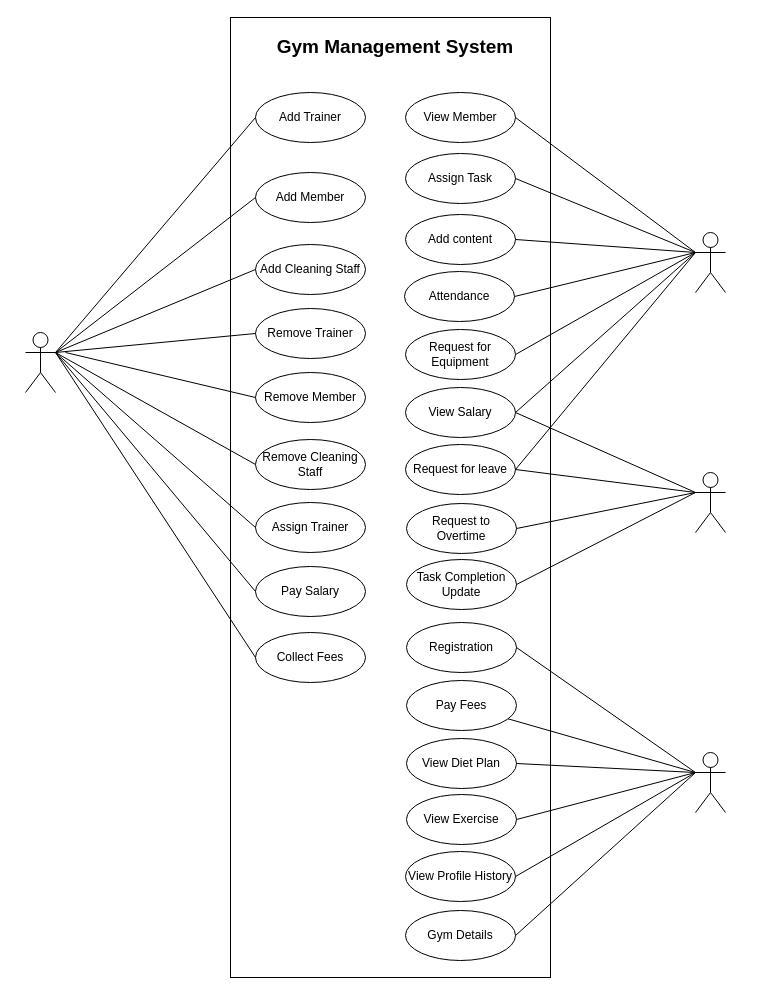
This 765x995 diagram has some shape labels left out. The centre of each missing label's shape, as x and y in pixels:
Cleaning Staff: point 710,502
Manager: point 40,362
Member: point 710,782
Trainer: point 710,262
